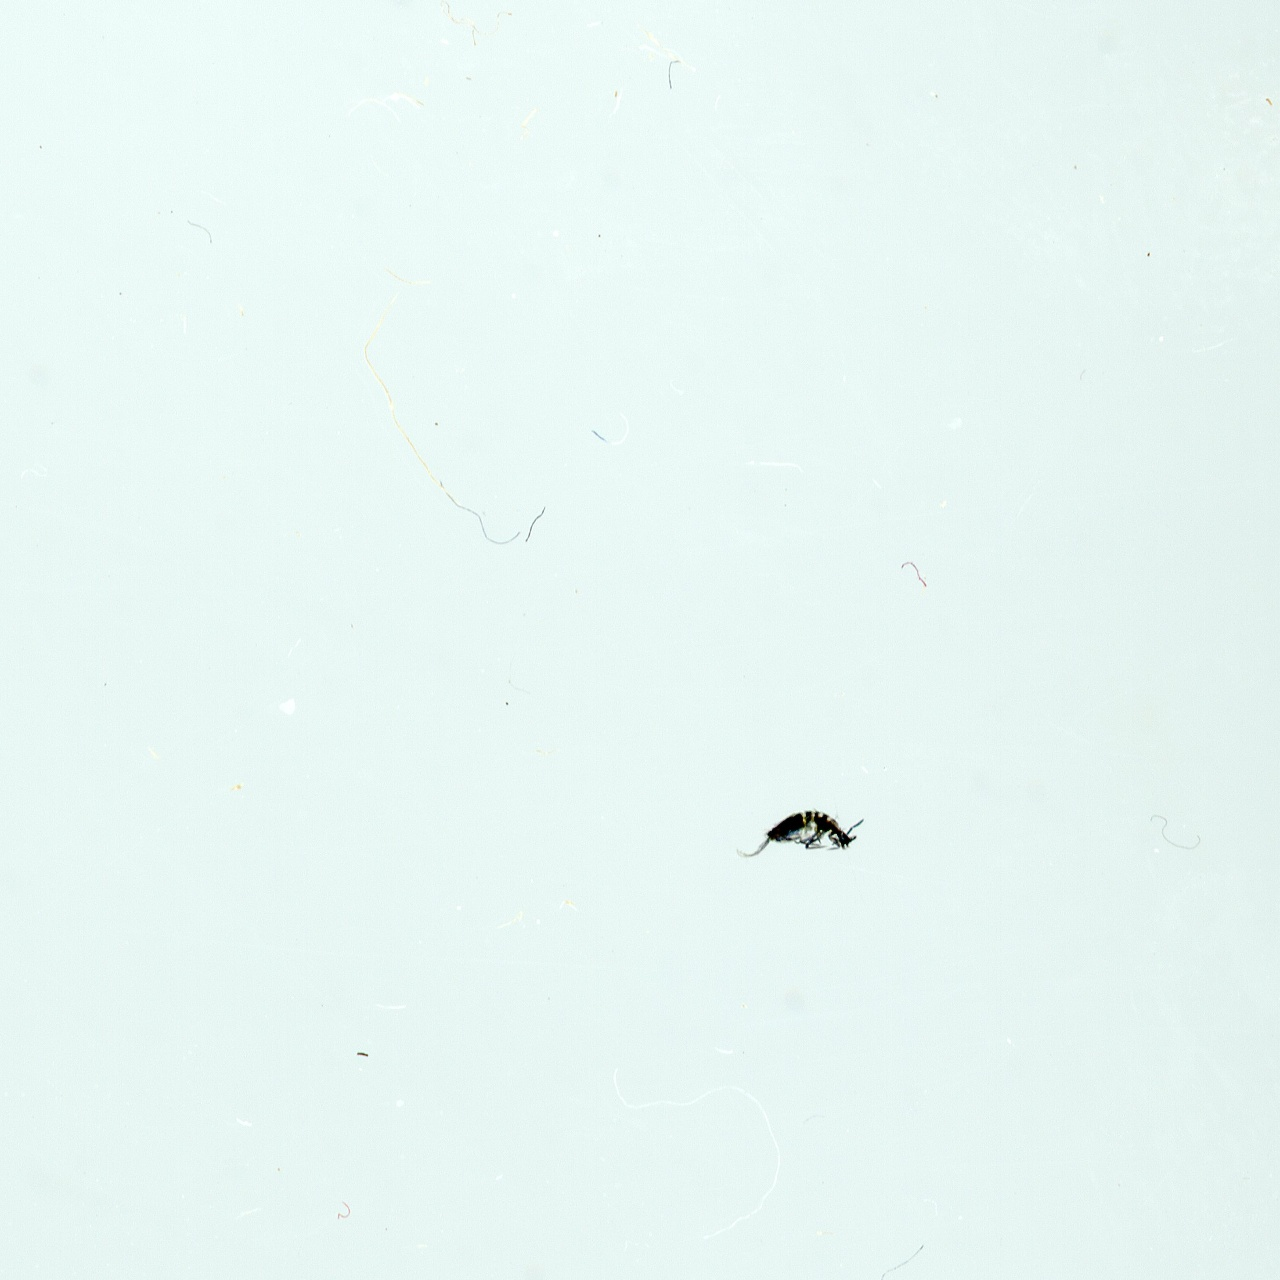arthropod: (713, 761, 932, 917)
